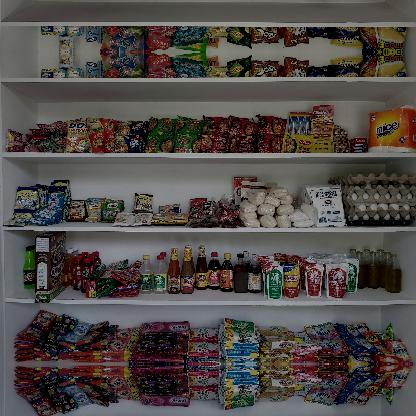Koko-Krunch: (33, 229, 69, 303)
